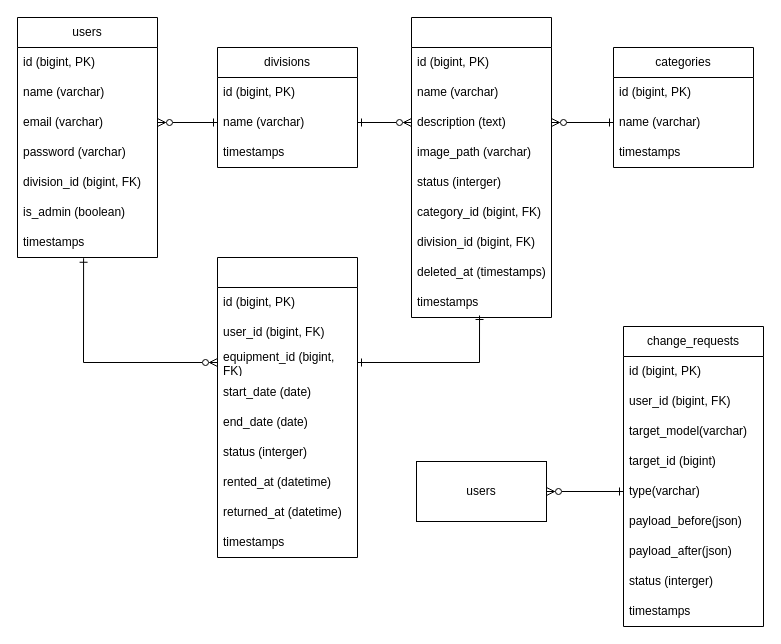
The diagram is 781 pixels wide and 644 high, and some of its shapes have lost their labels. Each missing label, with the box of its shape:
equipments: (410, 16, 552, 318)
reservations: (216, 256, 358, 558)
